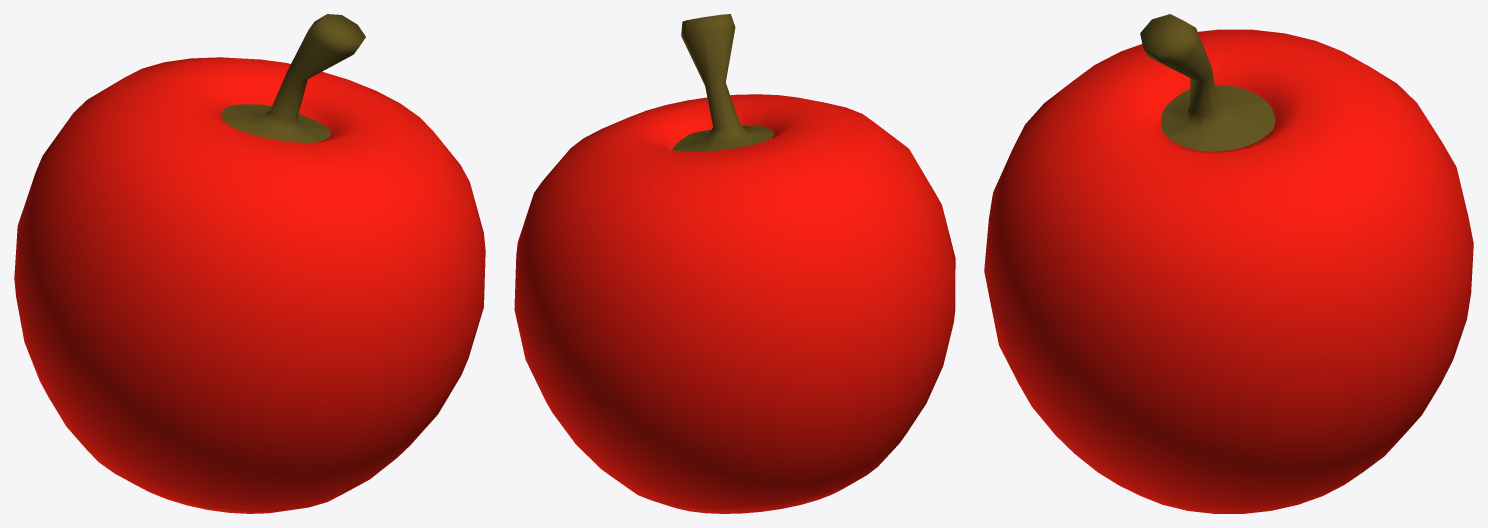
File: Apple.fbx
3 views of the same model, side by side, from view 1: azimuth 30°, elevation 25°; view 2: azimuth 150°, elevation 25°; view 3: azimuth 270°, elevation 25° (orthographic). The views are drawn at different scales.
Parts seen in each view (by area): view 1: Apple; view 2: Apple; view 3: Apple.
Part boxes in pixels (x1,y1,x2,y2): Apple: (14,14,485,513); Apple: (514,14,955,513); Apple: (984,14,1473,513).
Size of the model in its own units: 630 by 693 by 631.
Materials: 1 (1 with a texture image).
